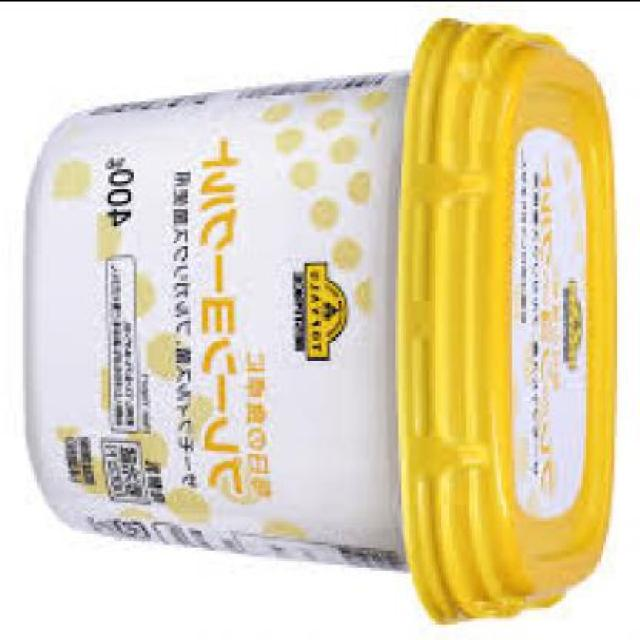PLASTIC: (29, 19, 617, 632), (402, 20, 620, 629)
